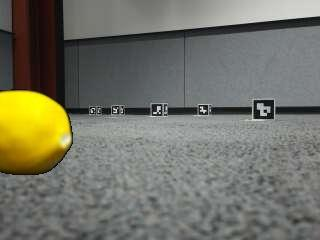lemon: (0, 91, 71, 175)
